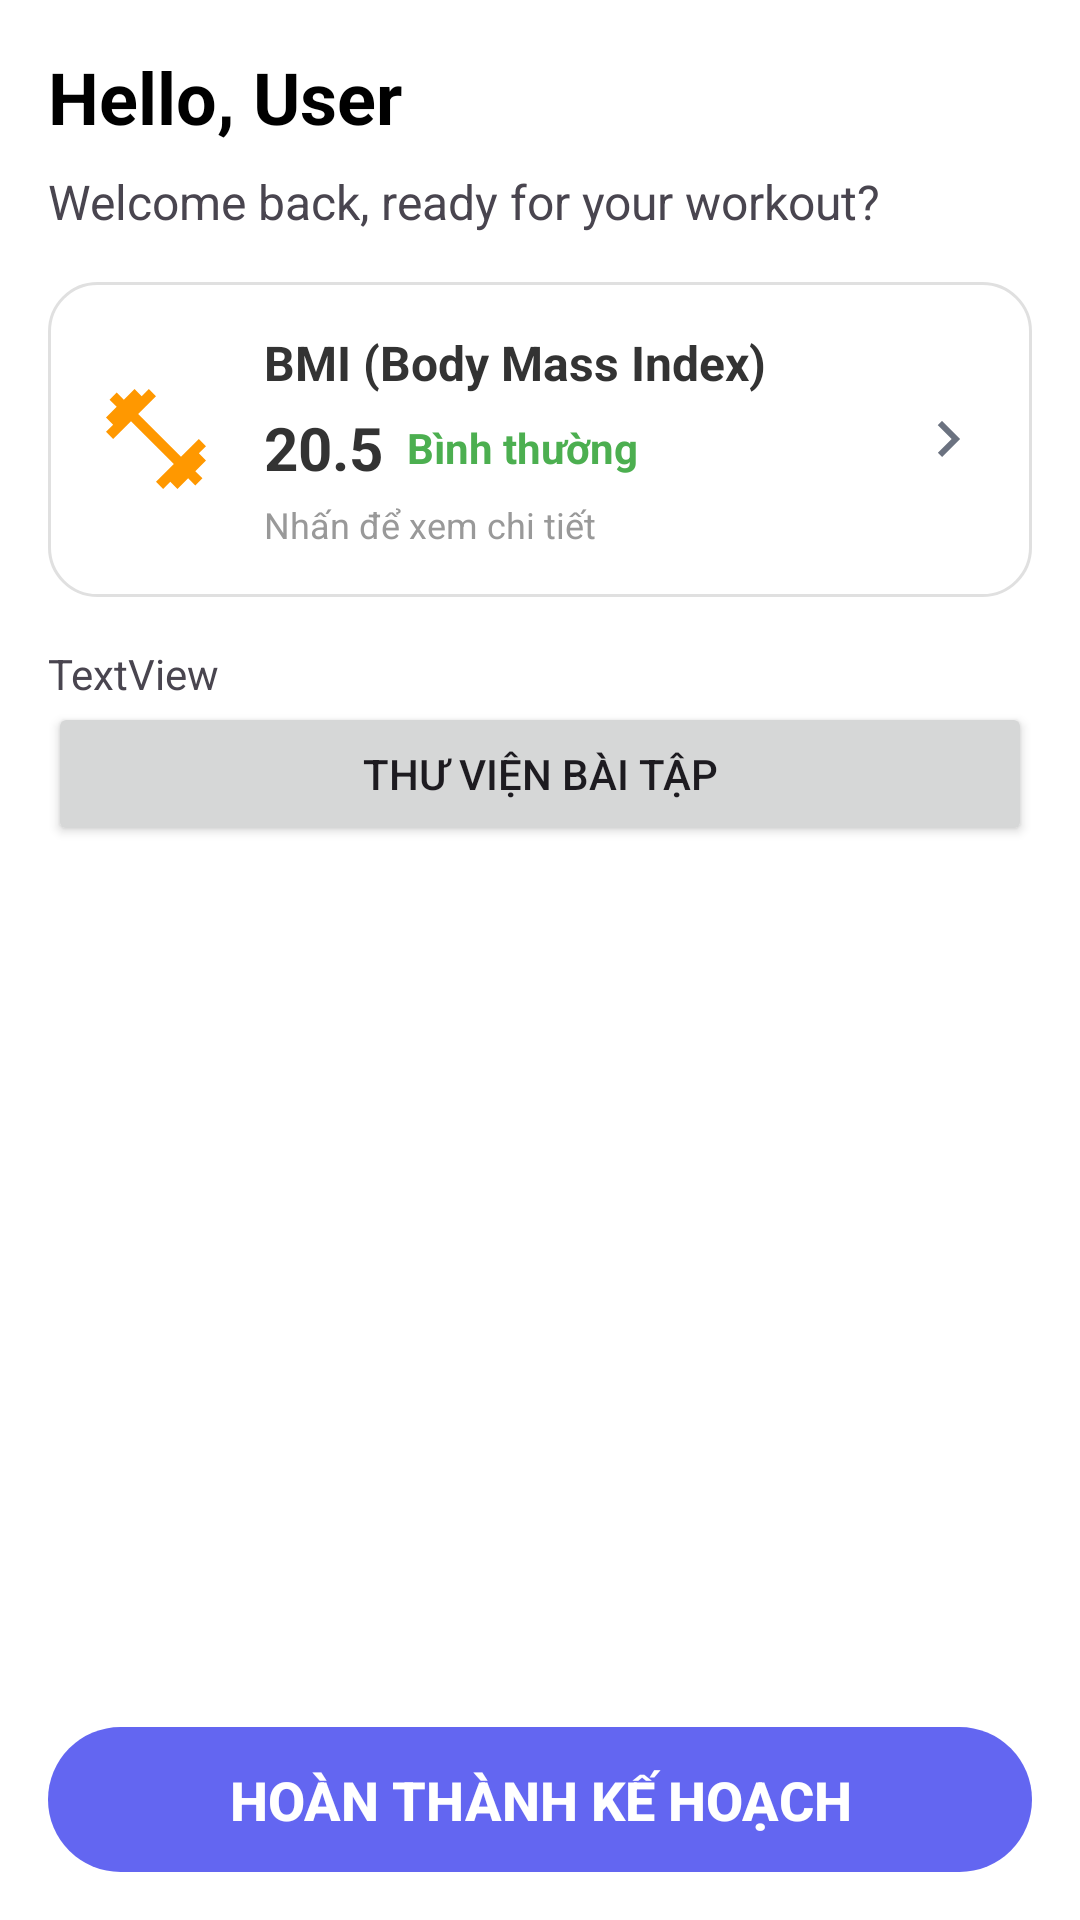

Where to tap for icons on this 1080x1920 app screen, as (x=x, y=y):
arrow right: (x=949, y=439)
exercise: (x=156, y=439)
